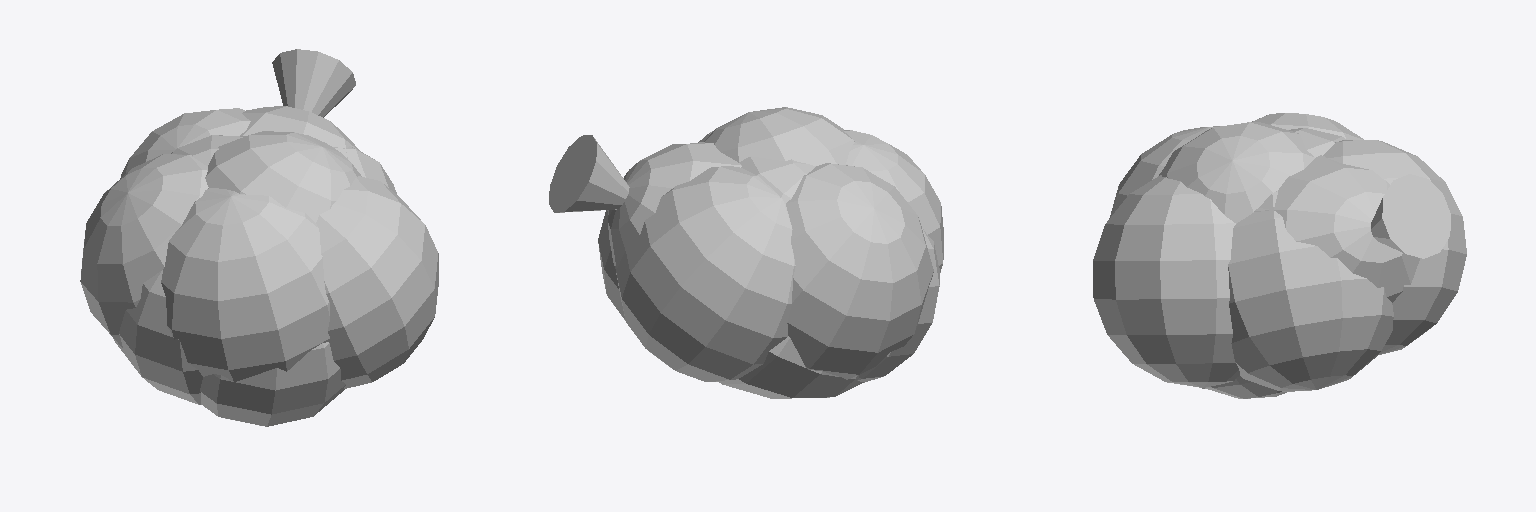
The model's file is trashbag.obj.
The picture shows the model from 3 angles: view 1: azimuth 30°, elevation 25°; view 2: azimuth 150°, elevation 25°; view 3: azimuth 270°, elevation 25°; orthographic projection.
Parts seen in each view (by area): view 1: group[number redacted], group[number redacted], group[number redacted], group[number redacted], group[number redacted], group[number redacted], group[number redacted], group[number redacted], group[number redacted], group[number redacted], group[number redacted]; view 2: group[number redacted], group[number redacted], group[number redacted], group[number redacted], group[number redacted], group[number redacted], group[number redacted], group[number redacted], group[number redacted]; view 3: group[number redacted], group[number redacted], group[number redacted], group[number redacted], group[number redacted], group[number redacted], group[number redacted], group[number redacted], group[number redacted], group[number redacted].
Boxes of the visible parts, x1=… form: group[number redacted]: x1=161, y1=188, x2=329, y2=382; group[number redacted]: x1=316, y1=176, x2=438, y2=388; group[number redacted]: x1=80, y1=154, x2=208, y2=347; group[number redacted]: x1=205, y1=131, x2=361, y2=222; group[number redacted]: x1=200, y1=342, x2=345, y2=426; group[number redacted]: x1=113, y1=270, x2=202, y2=404; group[number redacted]: x1=272, y1=49, x2=355, y2=117; group[number redacted]: x1=120, y1=108, x2=250, y2=178; group[number redacted]: x1=240, y1=106, x2=360, y2=158; group[number redacted]: x1=333, y1=146, x2=397, y2=195; group[number redacted]: x1=171, y1=135, x2=244, y2=165; group[number redacted]: x1=615, y1=166, x2=795, y2=381; group[number redacted]: x1=786, y1=163, x2=933, y2=379; group[number redacted]: x1=608, y1=143, x2=863, y2=398; group[number redacted]: x1=704, y1=107, x2=854, y2=165; group[number redacted]: x1=549, y1=135, x2=629, y2=212; group[number redacted]: x1=844, y1=130, x2=943, y2=271; group[number redacted]: x1=857, y1=228, x2=940, y2=382; group[number redacted]: x1=739, y1=156, x2=815, y2=203; group[number redacted]: x1=598, y1=142, x2=705, y2=319; group[number redacted]: x1=1093, y1=175, x2=1239, y2=387; group[number redacted]: x1=1228, y1=191, x2=1393, y2=391; group[number redacted]: x1=1254, y1=155, x2=1419, y2=302; group[number redacted]: x1=1159, y1=122, x2=1314, y2=223; group[number redacted]: x1=1323, y1=140, x2=1466, y2=354; group[number redacted]: x1=1371, y1=174, x2=1450, y2=258; group[number redacted]: x1=1109, y1=126, x2=1219, y2=218; group[number redacted]: x1=1252, y1=113, x2=1363, y2=139; group[number redacted]: x1=1205, y1=376, x2=1286, y2=398; group[number redacted]: x1=1289, y1=128, x2=1346, y2=157.
Bounding box in the file's own units: 0.6176 × 0.5074 × 0.6432.